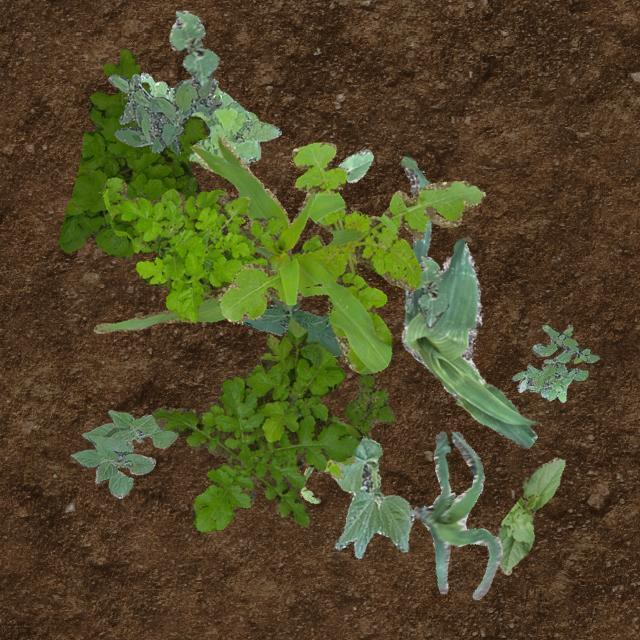crop: (93, 134, 330, 332), (399, 152, 536, 448), (412, 431, 501, 598), (68, 408, 178, 498), (332, 437, 412, 558), (496, 456, 564, 574), (240, 296, 342, 356), (168, 10, 218, 84), (417, 254, 448, 326), (337, 148, 372, 182)
weed: (218, 142, 484, 374), (152, 316, 362, 530), (100, 177, 324, 321), (58, 48, 208, 258), (140, 72, 280, 168), (107, 72, 220, 154), (512, 324, 598, 402), (344, 373, 394, 438), (298, 464, 320, 502), (322, 454, 353, 479)
